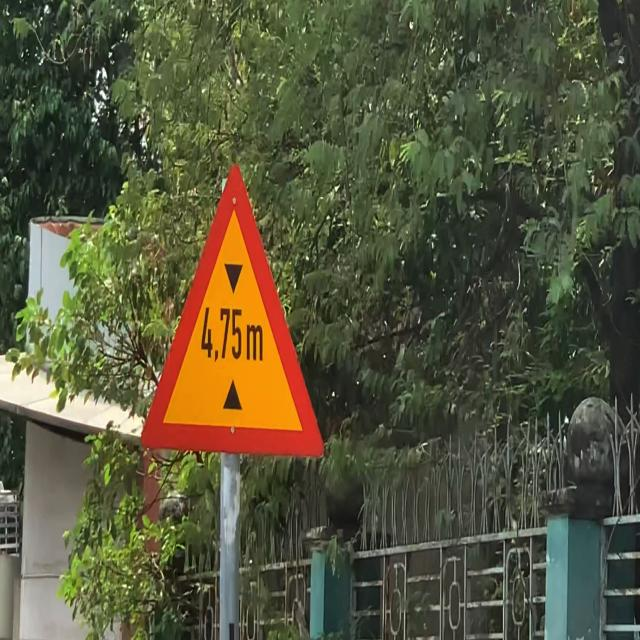Nguy hiem: (136, 157, 332, 480)
